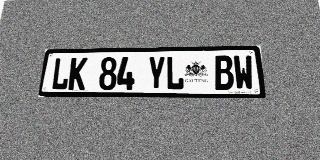4: (116, 57, 135, 90)
8: (98, 57, 118, 90)
B: (214, 55, 234, 90)
K: (68, 57, 88, 90)
L: (50, 58, 71, 90), (166, 56, 184, 90)
W: (233, 55, 255, 90)
Y: (147, 56, 165, 90)
